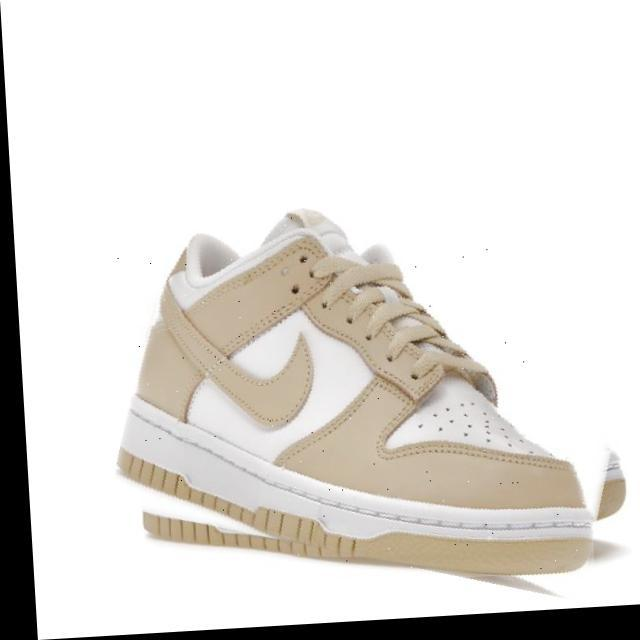J1_InsoleChar: (3, 2, 636, 636)
J1_ShoeLogo: (115, 206, 626, 577)
J1_StitchPattern: (114, 442, 599, 575), (293, 248, 566, 469), (305, 251, 497, 403), (115, 446, 357, 564), (376, 392, 572, 473), (139, 506, 356, 563), (342, 281, 446, 363), (376, 436, 574, 473), (414, 397, 542, 454)
